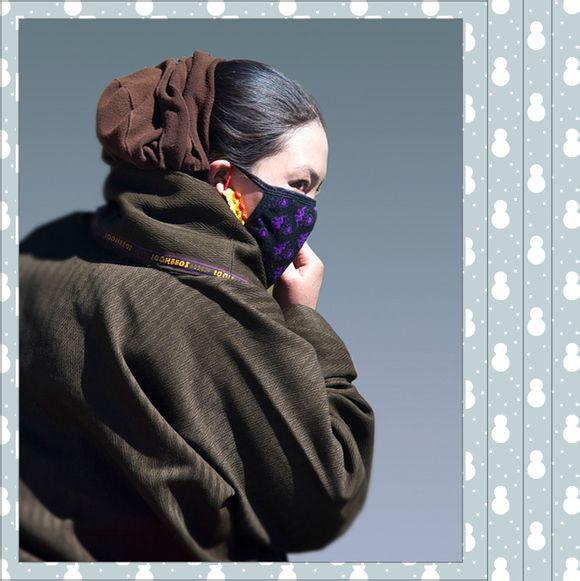OK: (206, 157, 325, 276)
